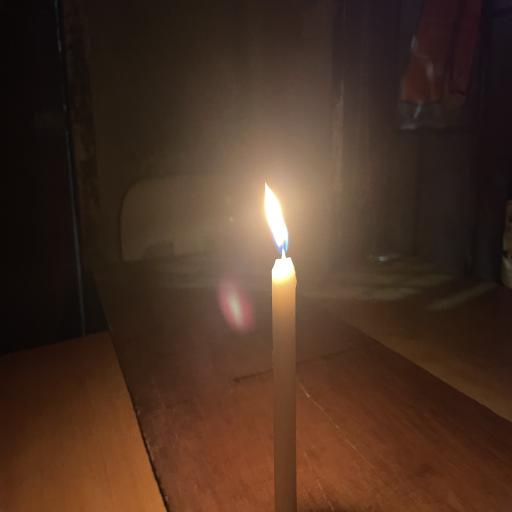fire: (240, 158, 325, 285)
